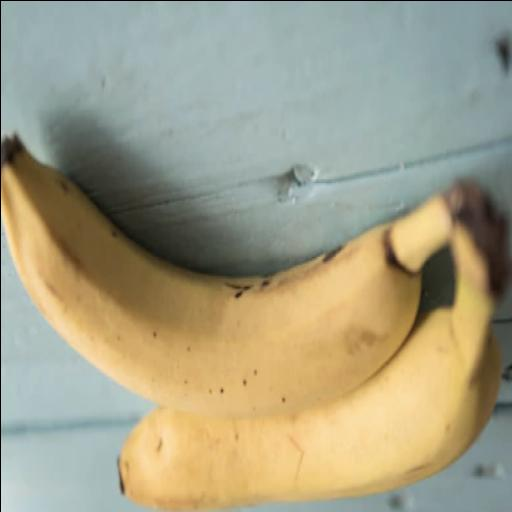banana: (1, 136, 483, 417), (118, 210, 510, 510)
